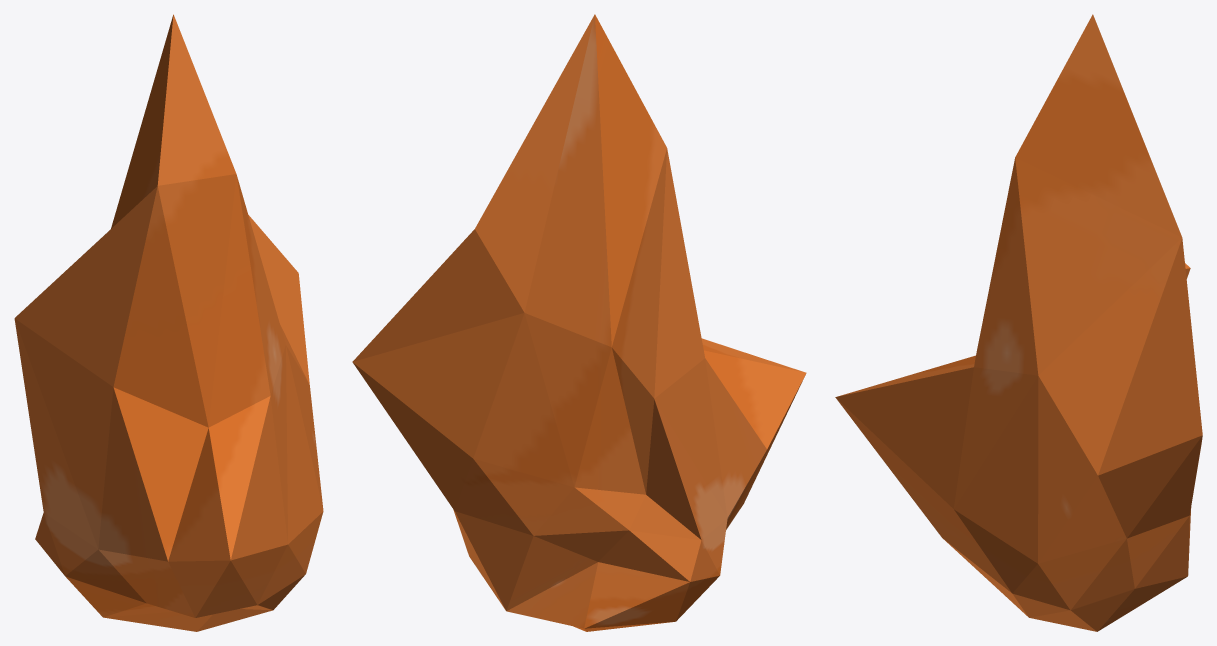
File: Cristal_1.fbx
3 renders of one model, left to right at view 1: azimuth 30°, elevation 25°; view 2: azimuth 150°, elevation 25°; view 3: azimuth 270°, elevation 25°, orthographic. The views are drawn at different scales.
Parts seen in each view (by area): view 1: Cristal; view 2: Cristal; view 3: Cristal.
Part boxes in pixels (bbox=[...]): Cristal: bbox=[14, 14, 323, 631]; Cristal: bbox=[352, 14, 806, 631]; Cristal: bbox=[835, 14, 1202, 631].
Bounding box in the file's own units: 265 × 521 × 290.
